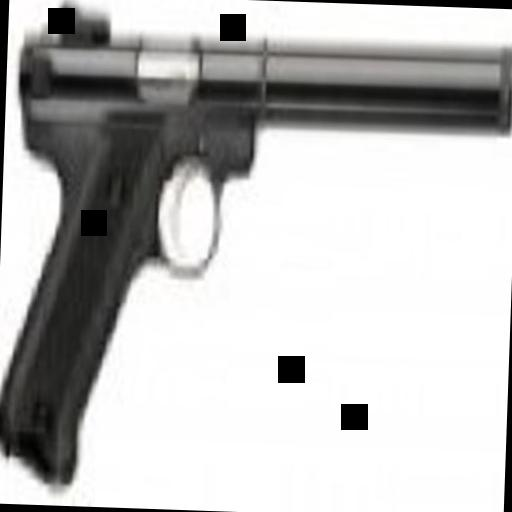Handgun: (10, 2, 510, 490)
